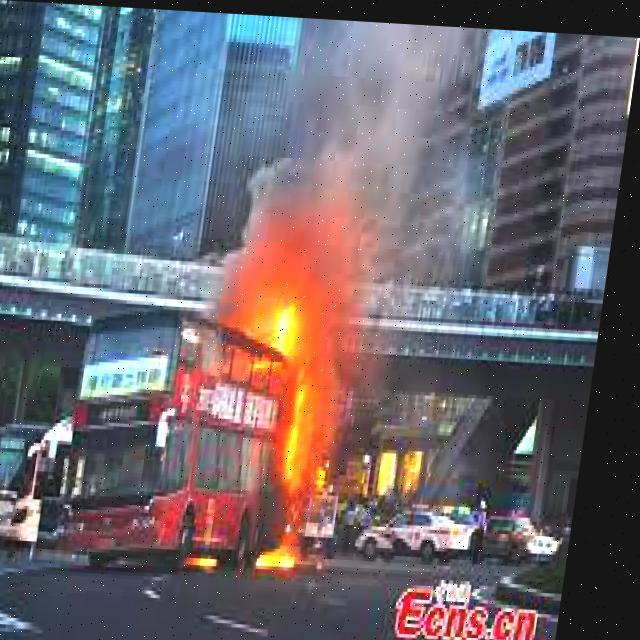Fire: (243, 290, 356, 490), (191, 512, 245, 581), (254, 525, 316, 577)
